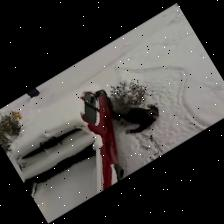person: (115, 104, 158, 134)
